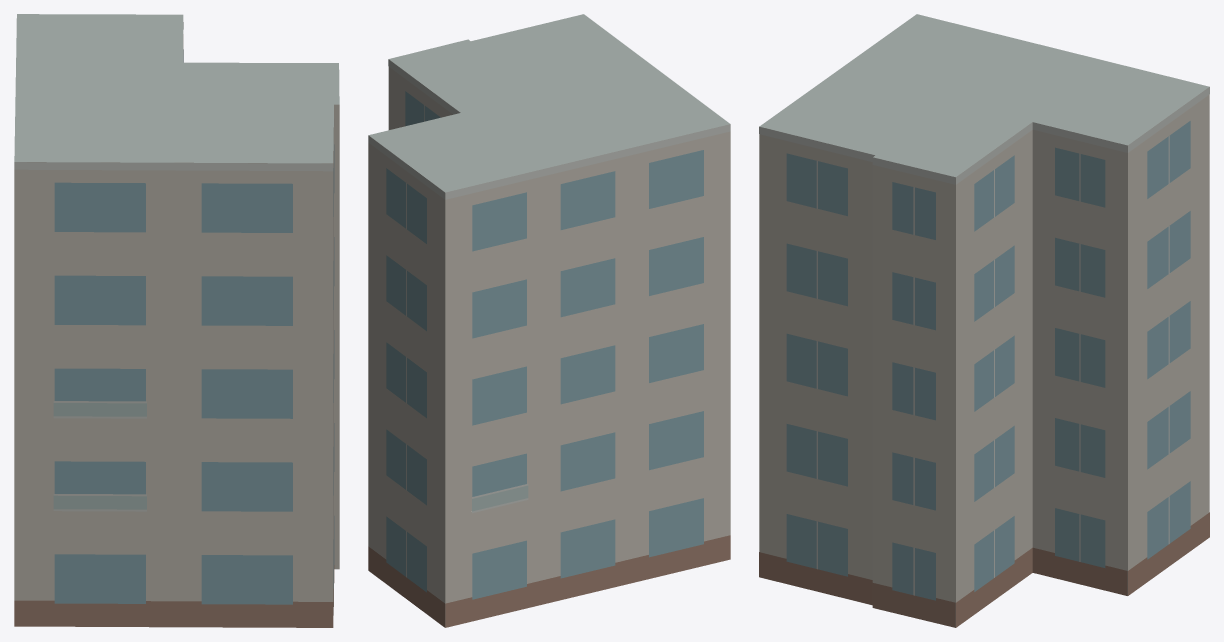
The model's file is survey-upis-32649162.glb.
3 views of the same model, side by side, from view 1: azimuth 30°, elevation 25°; view 2: azimuth 150°, elevation 25°; view 3: azimuth 270°, elevation 25° (orthographic). The views are drawn at different scales.
Parts seen in each view (by area): view 1: survey-upis-32649162.tmp; view 2: survey-upis-32649162.tmp; view 3: survey-upis-32649162.tmp.
Boxes of the visible parts, x1,y1,x2,y2 form: survey-upis-32649162.tmp: (14,14,339,627); survey-upis-32649162.tmp: (368,14,730,627); survey-upis-32649162.tmp: (759,14,1209,627).
Size of the model in its own units: 11.31 by 14.55 by 13.19.
